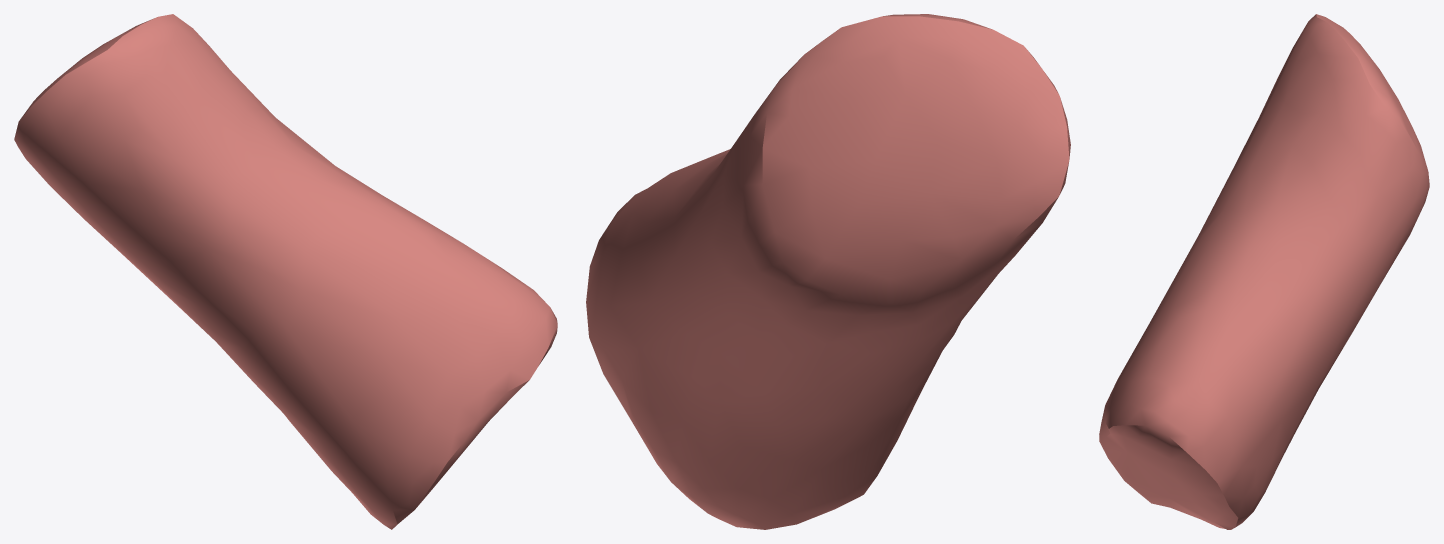
The model's file is fma38557-o_mm1815m.glb.
3 renders of one model, left to right at view 1: azimuth 30°, elevation 25°; view 2: azimuth 150°, elevation 25°; view 3: azimuth 270°, elevation 25°, orthographic. The views are drawn at different scales.
Parts seen in each view (by area): view 1: FMA38557-O_MM1815M; view 2: FMA38557-O_MM1815M; view 3: FMA38557-O_MM1815M.
Boxes of the visible parts, left/top/right/bottom form: FMA38557-O_MM1815M: left=14, top=14, right=557, bottom=529; FMA38557-O_MM1815M: left=586, top=14, right=1070, bottom=529; FMA38557-O_MM1815M: left=1099, top=14, right=1429, bottom=529.
Bounding box in the file's own units: 0.0129 × 0.0132 × 0.00948.
